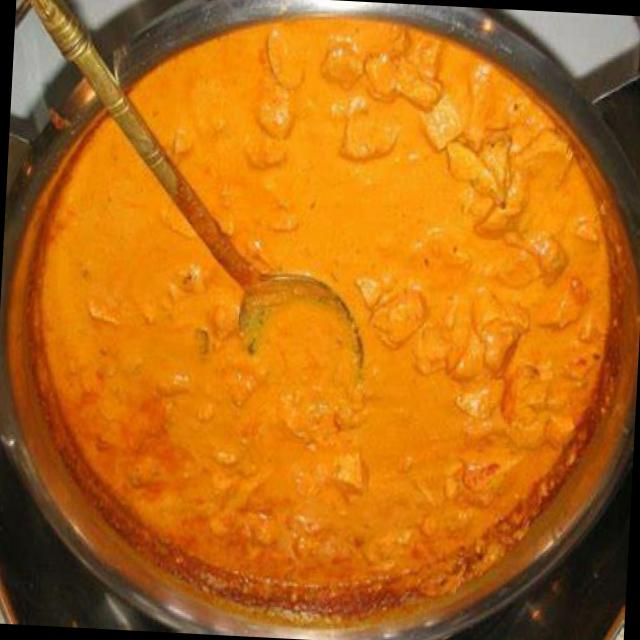ShahiPaneer: (35, 18, 622, 611)
